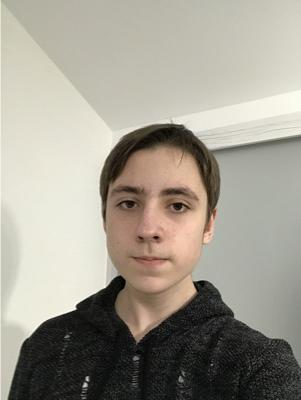without_mask: (106, 177, 206, 295)
